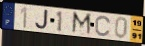0: (114, 17, 130, 40)
1: (20, 6, 28, 30), (56, 10, 63, 33)
C: (94, 15, 112, 37)
J: (34, 9, 49, 31)
M: (71, 11, 93, 37)
